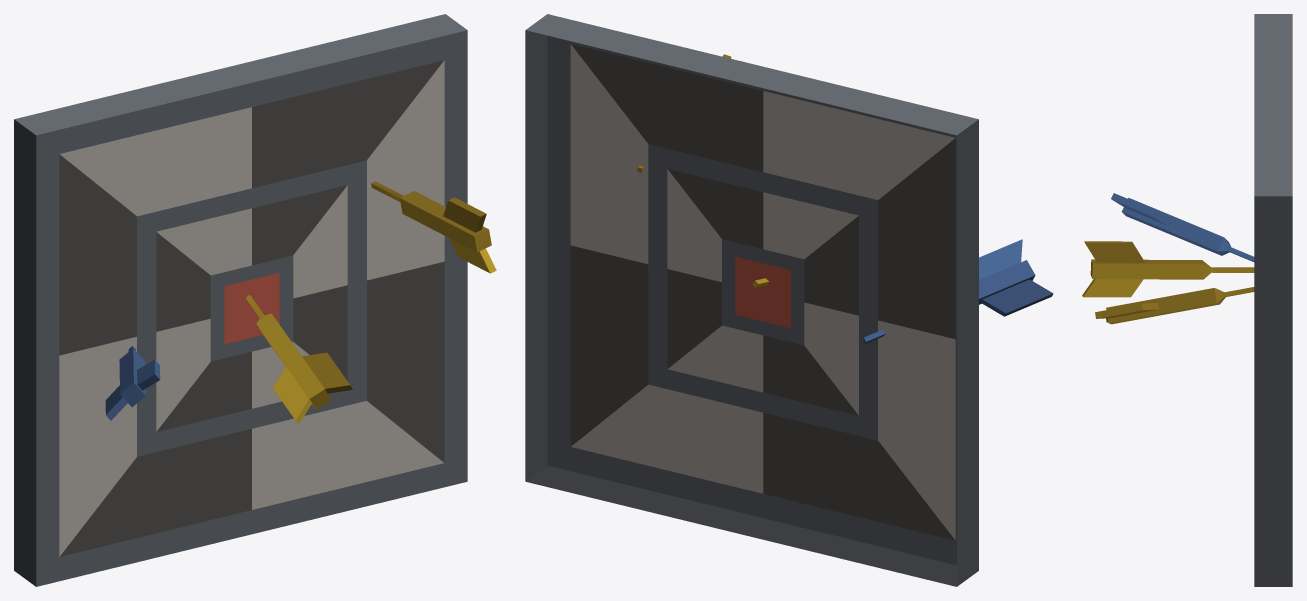
Rendered from AI_Prop_DartBoard.fbx.
3 renders of one model, left to right at view 1: azimuth 30°, elevation 25°; view 2: azimuth 150°, elevation 25°; view 3: azimuth 270°, elevation 25°, orthographic. The views are drawn at different scales.
Visible parts, largest first — view 1: AI_Prop_DartBoard; view 2: AI_Prop_DartBoard; view 3: AI_Prop_DartBoard.
Boxes of the visible parts, x1=… form: AI_Prop_DartBoard: x1=14, y1=14, x2=496, y2=586; AI_Prop_DartBoard: x1=525, y1=14, x2=1053, y2=586; AI_Prop_DartBoard: x1=1082, y1=14, x2=1292, y2=586.
Size of the model in its own units: 1.01 by 1 by 0.4883.
